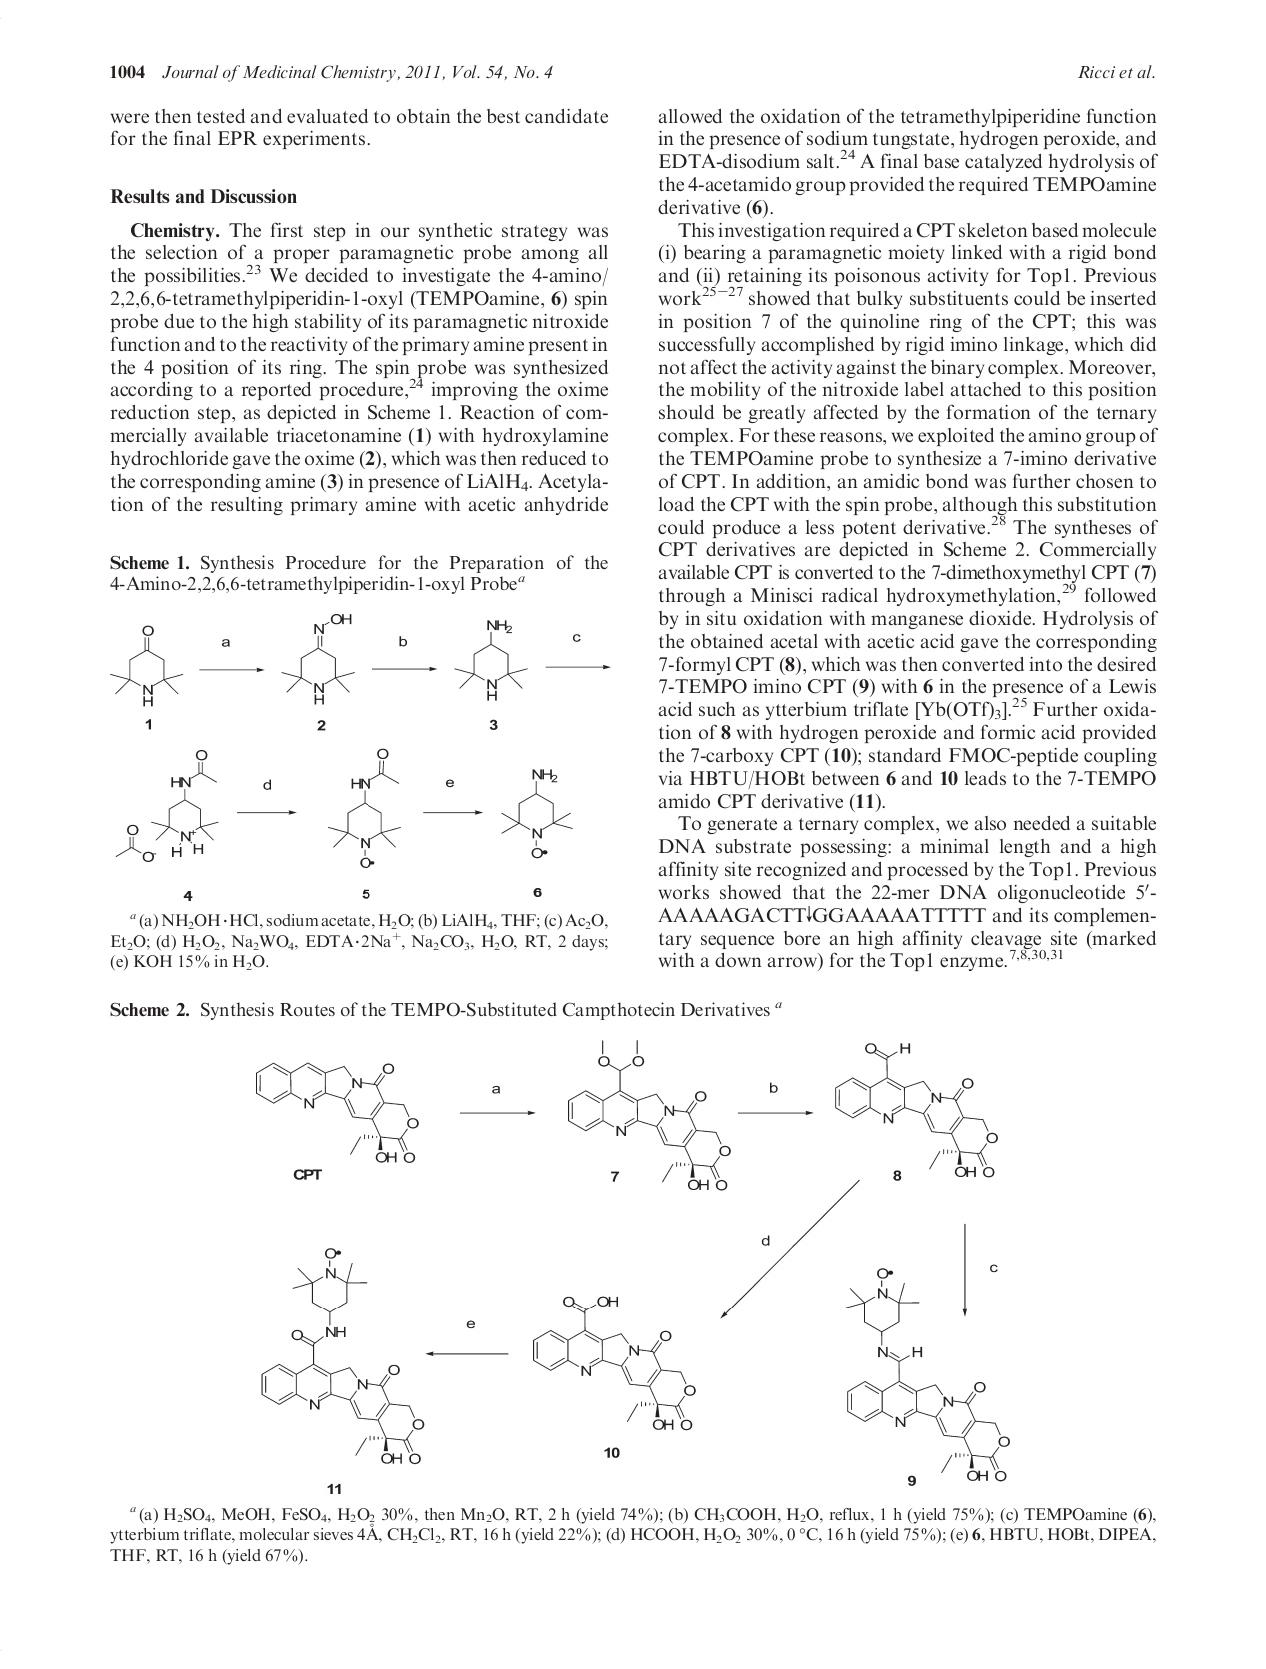exist_molecular: (257, 1245, 428, 1470), (836, 1263, 1009, 1481), (563, 1033, 733, 1196), (529, 1289, 703, 1435), (830, 1037, 1001, 1180), (247, 1051, 422, 1168), (322, 741, 404, 870), (148, 741, 222, 856), (496, 763, 578, 864), (277, 610, 362, 705), (449, 613, 531, 704), (109, 622, 186, 707), (112, 823, 160, 870)
